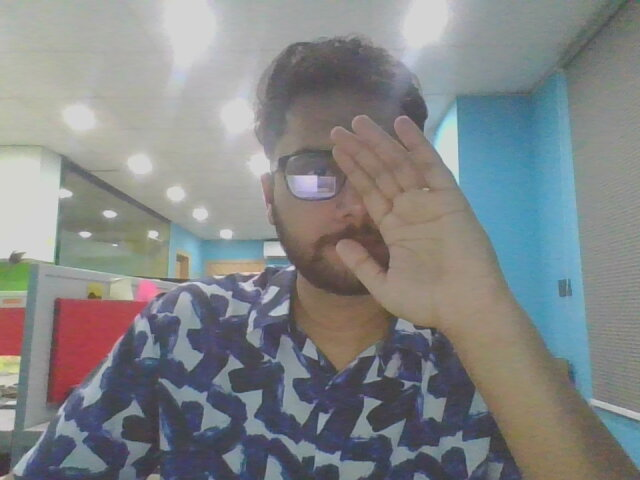hello: (316, 99, 530, 356), (316, 100, 529, 354)
